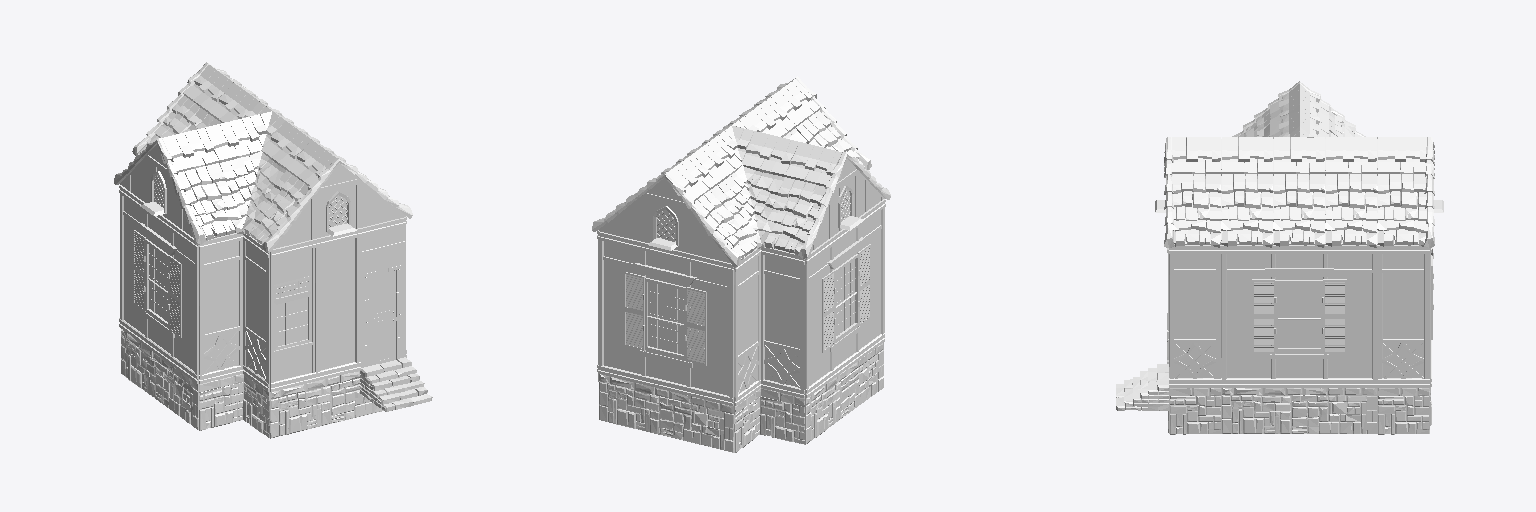
The model's file is house_05.obj.
3 views of the same model, side by side, from view 1: azimuth 30°, elevation 25°; view 2: azimuth 150°, elevation 25°; view 3: azimuth 270°, elevation 25° (orthographic).
Size of the model in its own units: 4.39 by 5.6 by 6.31.